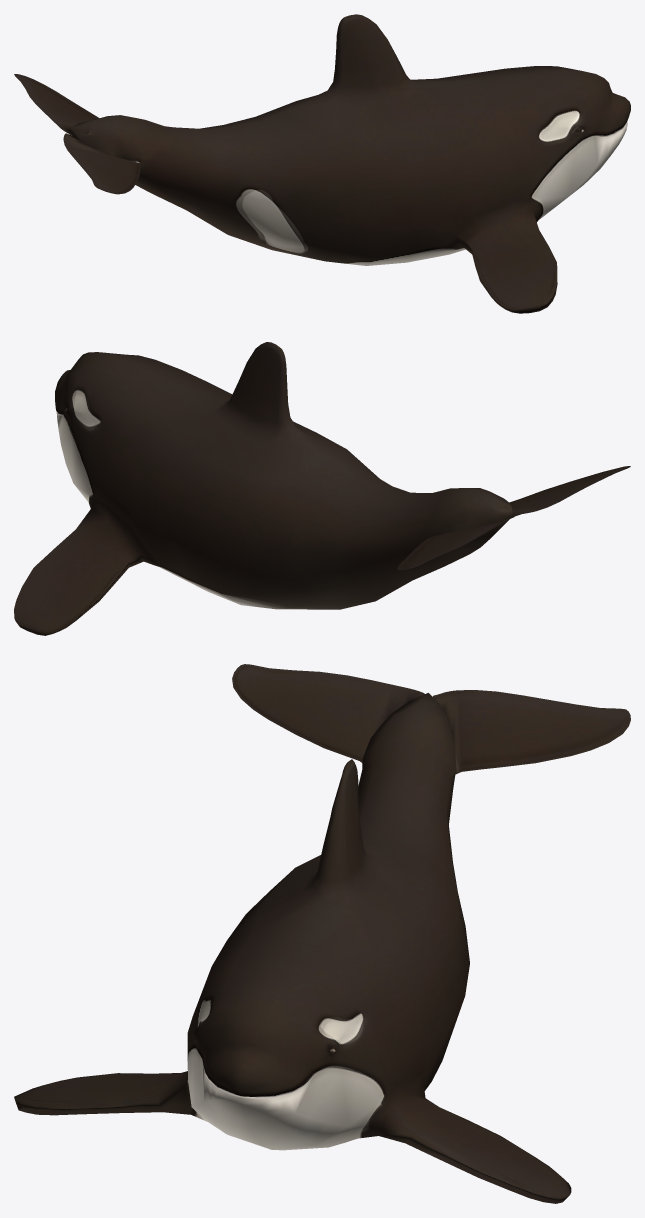
File: orca.glb
3 views of the same model, one above another, from view 1: azimuth 30°, elevation 25°; view 2: azimuth 150°, elevation 25°; view 3: azimuth 270°, elevation 25° (orthographic). The views are drawn at different scales.
Visible parts, largest first — view 1: tripo_node_67642dc2-f5a9-4829-8335-21e398190920; view 2: tripo_node_67642dc2-f5a9-4829-8335-21e398190920; view 3: tripo_node_67642dc2-f5a9-4829-8335-21e398190920.
Boxes of the visible parts, x1,y1,x2,y2 form: tripo_node_67642dc2-f5a9-4829-8335-21e398190920: [14, 14, 630, 313]; tripo_node_67642dc2-f5a9-4829-8335-21e398190920: [14, 342, 630, 635]; tripo_node_67642dc2-f5a9-4829-8335-21e398190920: [14, 664, 630, 1203].
Bounding box in the file's own units: 0.9995 × 0.4458 × 0.7378.
1 material, 1 textured.
